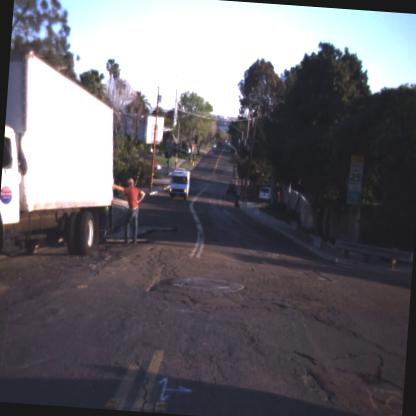trafficlight: (219, 140, 222, 146)
